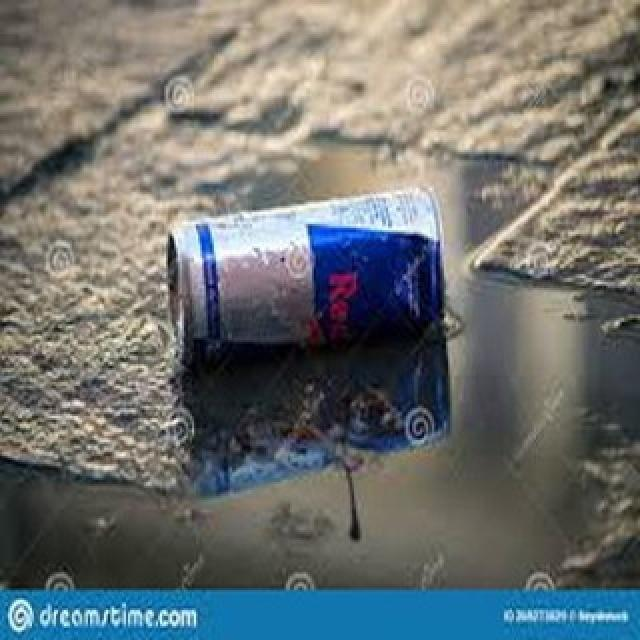can: (163, 186, 448, 351)
